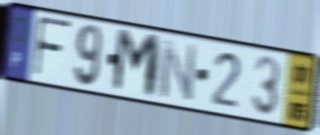2: (210, 50, 243, 111)
3: (251, 53, 282, 120)
9: (71, 22, 107, 89)
F: (31, 13, 73, 81)
M: (110, 26, 163, 102)
N: (157, 37, 198, 105)
